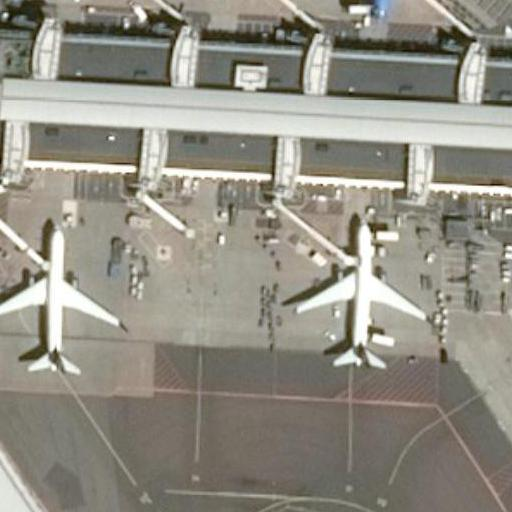Aircraft: (286, 213, 424, 372), (0, 220, 121, 373), (292, 0, 473, 19)
